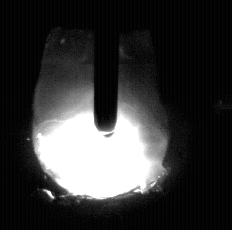arame: (95, 0, 119, 131)
poca: (32, 0, 168, 230)
